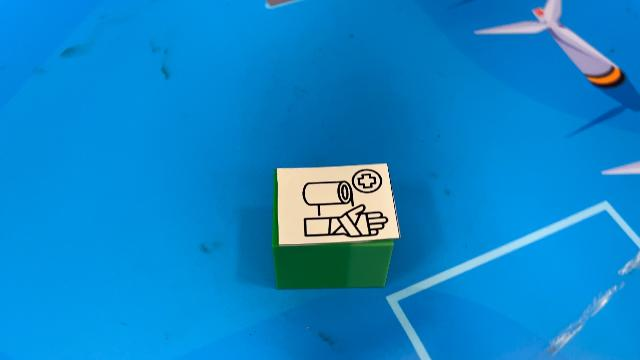bandage: (273, 161, 402, 289)
